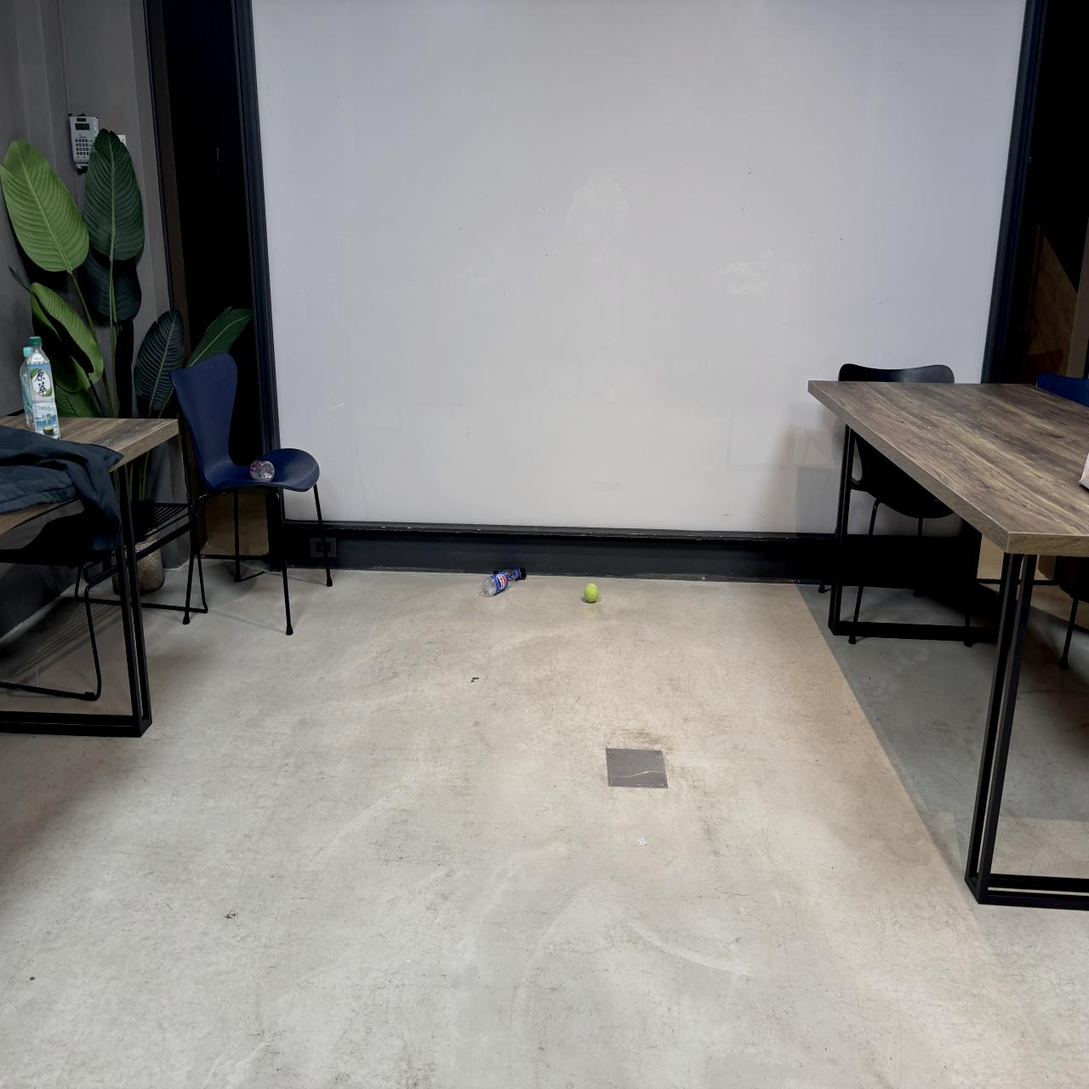plastic-bottle: (27, 336, 60, 438), (20, 346, 33, 428)
tennisball: (584, 584, 598, 603)
